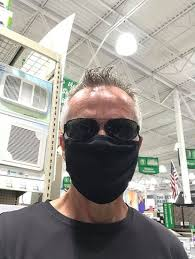mask: (65, 135, 139, 203)
